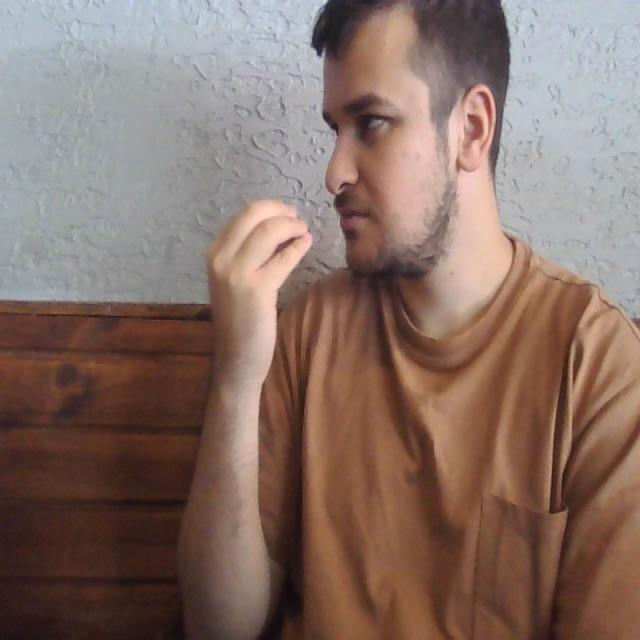Yemek: (206, 187, 391, 292)
